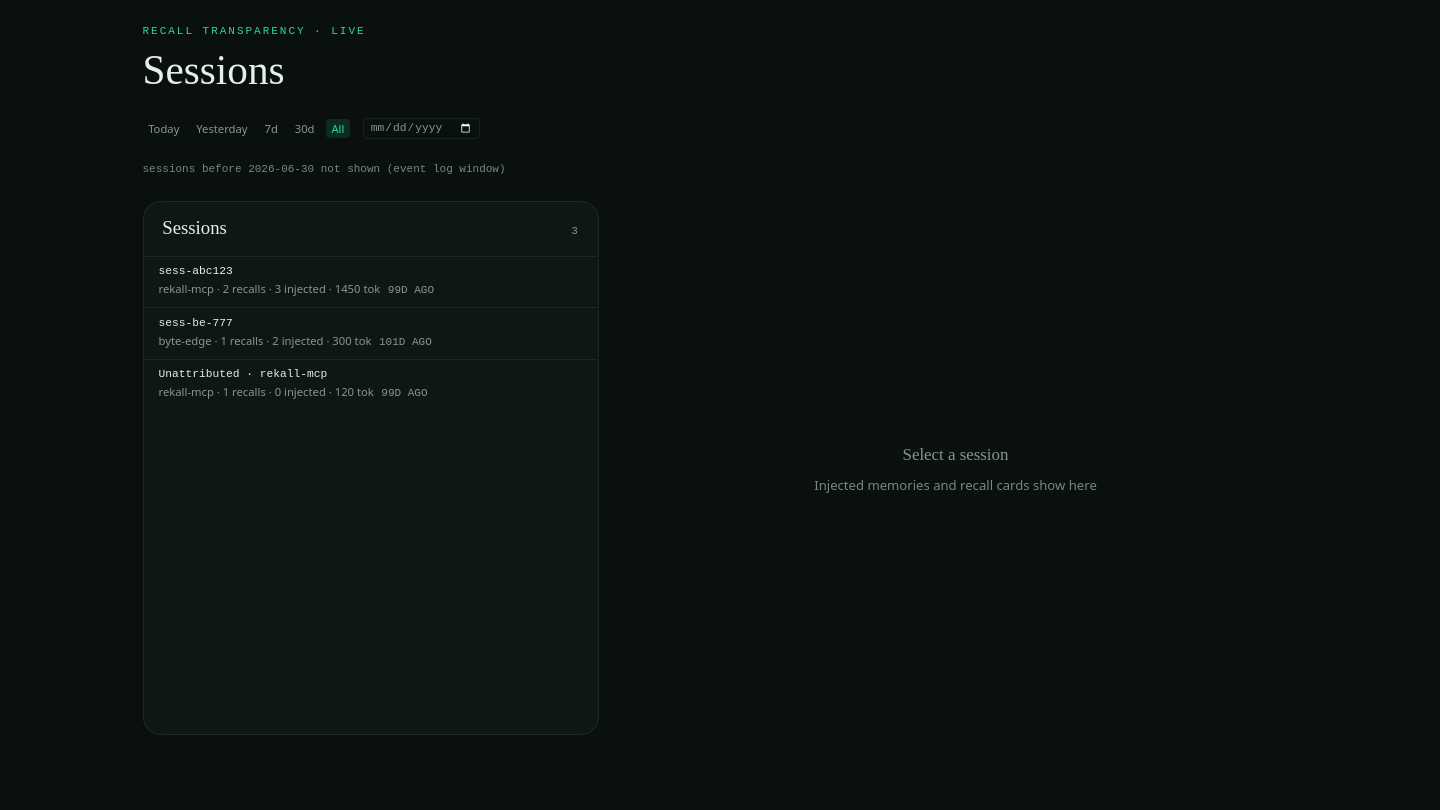
Test: Sessions surface › clicking a session shows recall cards with scores
Click the text "sess-abc123". click: point(196, 272)
box: [158,264,233,279]
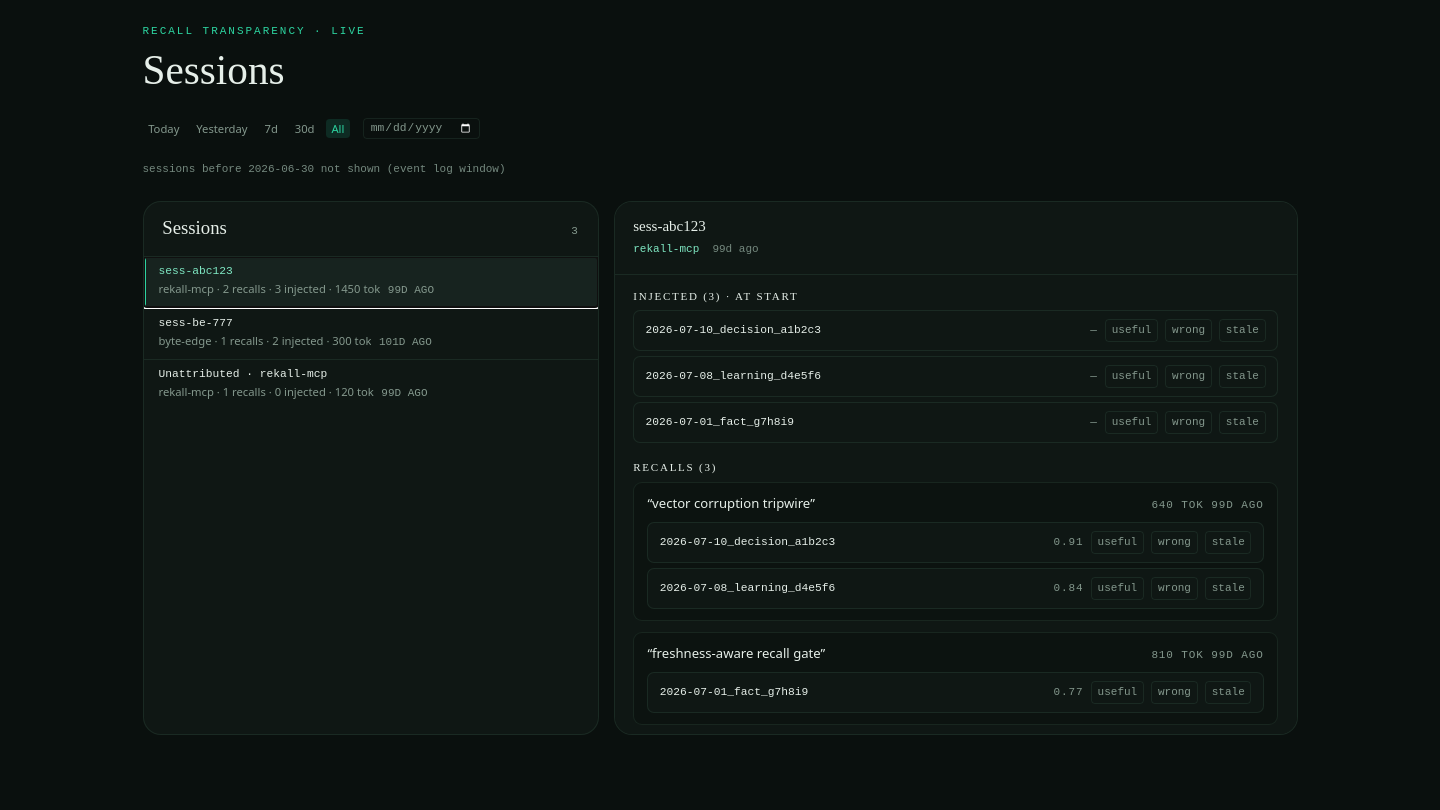
Expected: the text "“vector corruption tripwire”" is shown, [647,494,815,513]
Expected: the text "0.91" is shown, [1054,534,1083,551]
Expected: the text "0.84" is shown, [1054,580,1083,597]
